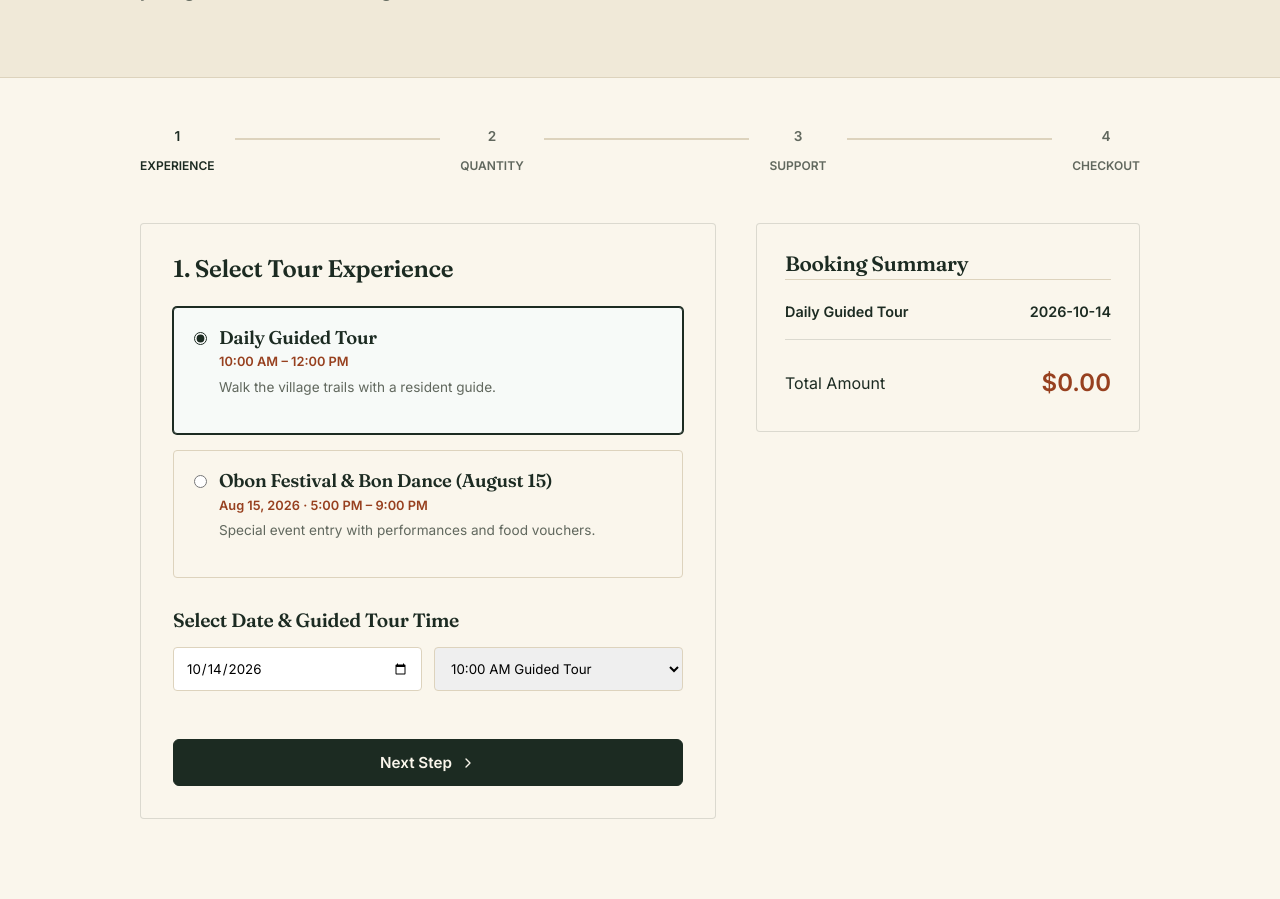
Tickets event cards › shows static ticket types on step 2
(page scrolled)
Click the button "Next Step".
click(428, 763)  # box [173, 739, 683, 786]
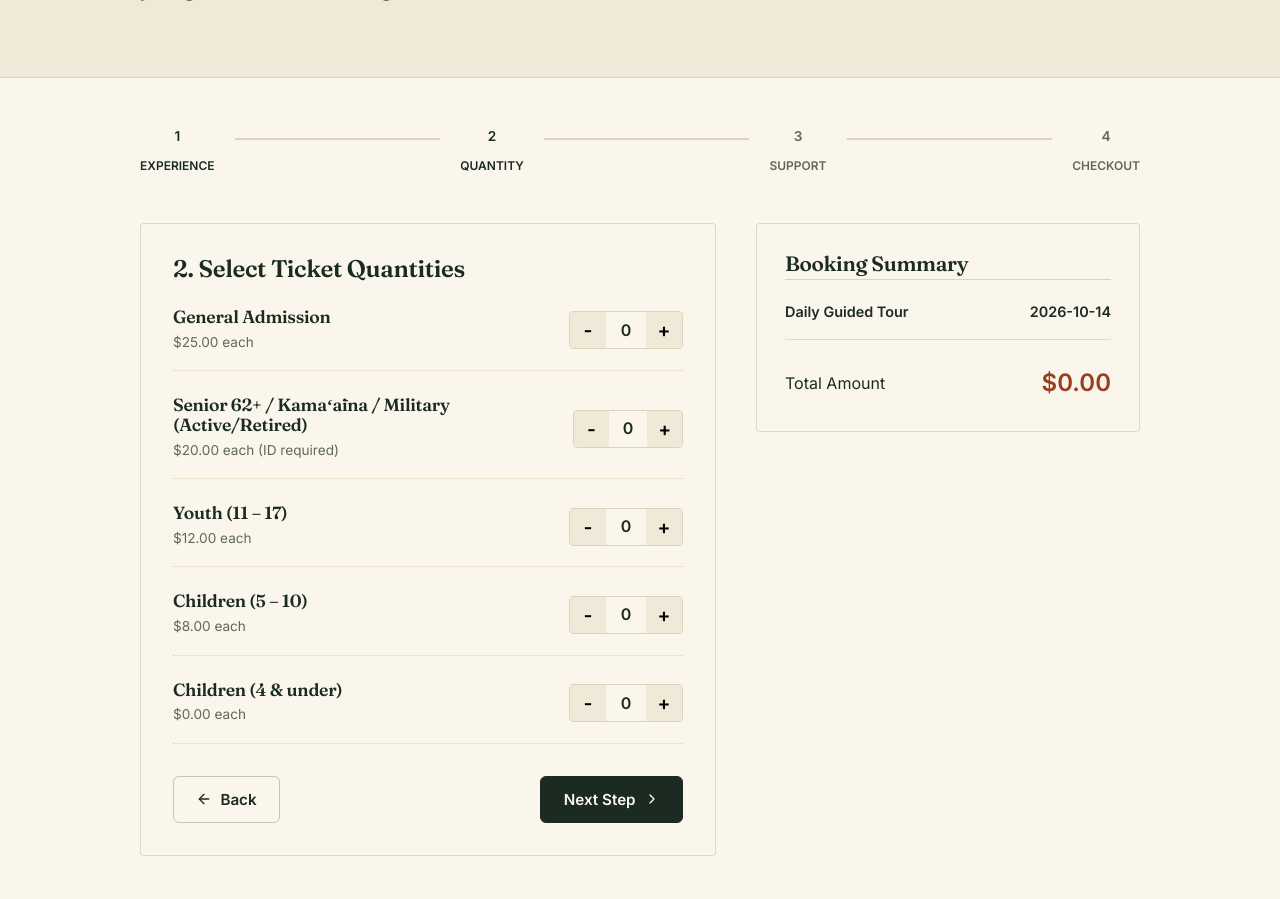
Now the heading "General Admission" is shown, box [173, 307, 331, 326]
Now the heading "Youth (11 – 17)" is shown, box [173, 503, 288, 523]
Now the heading "Children (5 – 10)" is shown, box [173, 591, 308, 611]
